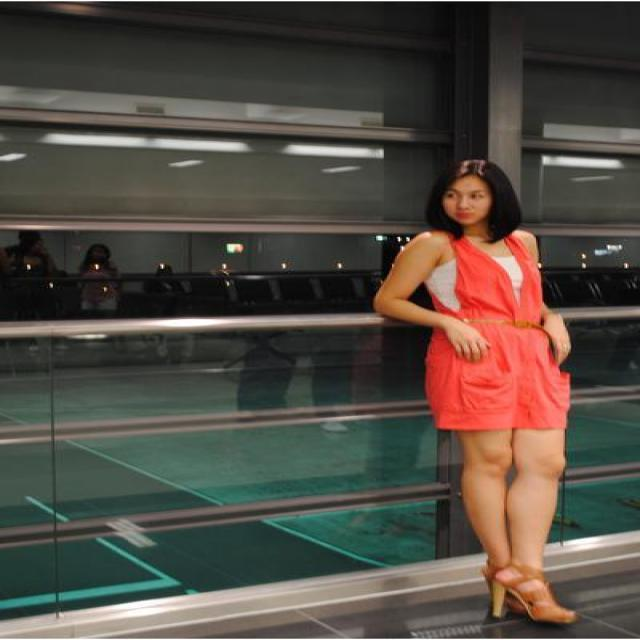dress: (426, 230, 570, 430)
shirt: (427, 256, 522, 319)
shoe: (466, 535, 572, 621)
